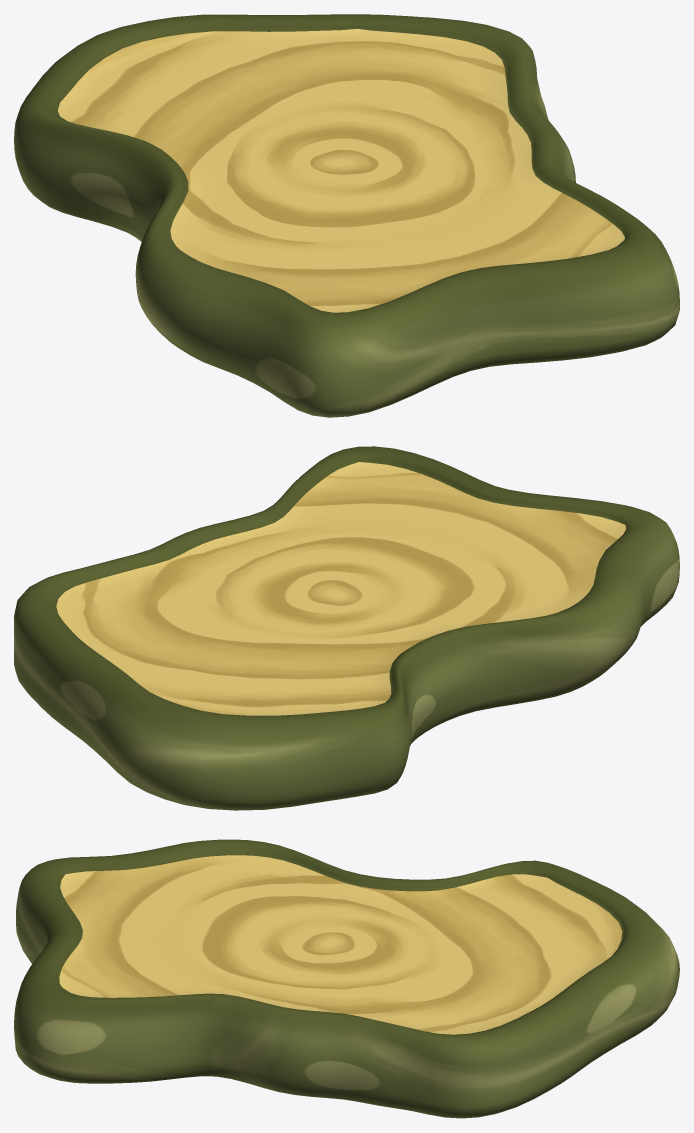
The model's file is FruitPlatform.fbx.
3 views of the same model, one above another, from view 1: azimuth 30°, elevation 25°; view 2: azimuth 150°, elevation 25°; view 3: azimuth 270°, elevation 25° (orthographic). The views are drawn at different scales.
Visible parts, largest first — view 1: FruitPlatform; view 2: FruitPlatform; view 3: FruitPlatform.
Boxes of the visible parts, <box> form: FruitPlatform: <box>14,14,679,417</box>; FruitPlatform: <box>14,446,679,810</box>; FruitPlatform: <box>14,839,679,1118</box>.
Size of the model in its own units: 1169 by 201 by 1538.
Materials: 1 (1 with a texture image).
